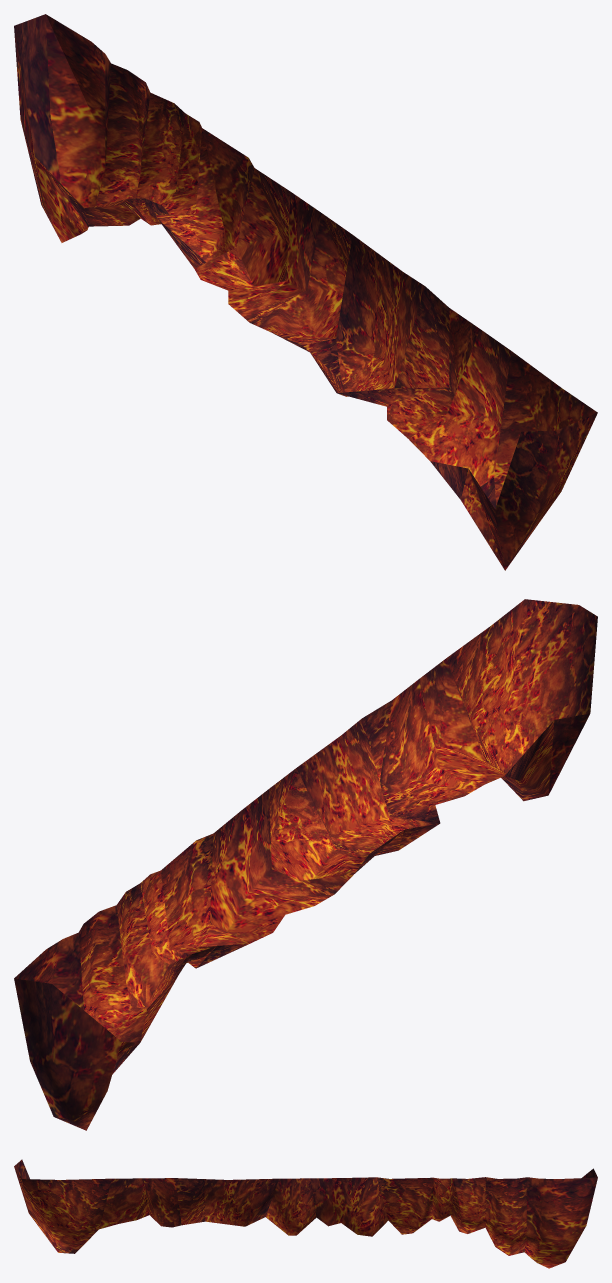
The model's file is Scene_rongyan_007.FBX.
3 renders of one model, top to bottom at view 1: azimuth 30°, elevation 25°; view 2: azimuth 150°, elevation 25°; view 3: azimuth 270°, elevation 25°, orthographic. The views are drawn at different scales.
Visible parts, largest first — view 1: Scene_rongyan_007; view 2: Scene_rongyan_007; view 3: Scene_rongyan_007.
Boxes of the visible parts, x1,y1,x2,y2 form: Scene_rongyan_007: [14, 14, 597, 570]; Scene_rongyan_007: [14, 599, 597, 1130]; Scene_rongyan_007: [14, 1159, 597, 1268].
Size of the model in its own units: 3.55 by 6.13 by 32.79.
